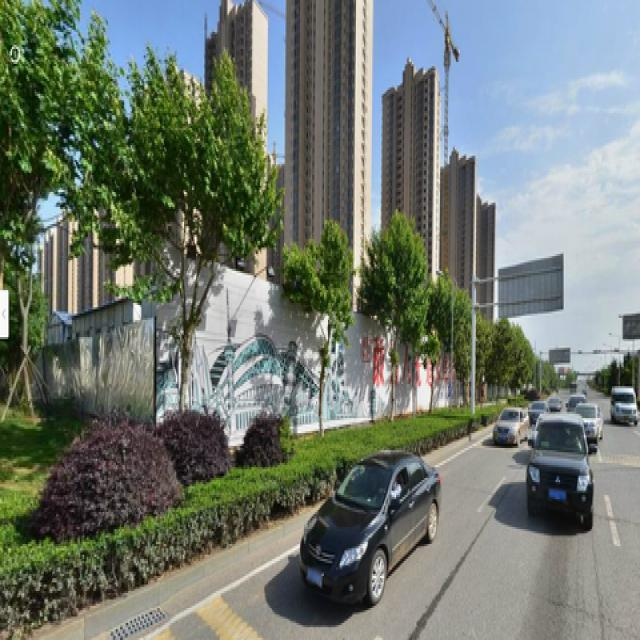meta: (118, 79, 250, 420), (304, 241, 351, 448), (364, 213, 409, 416)
